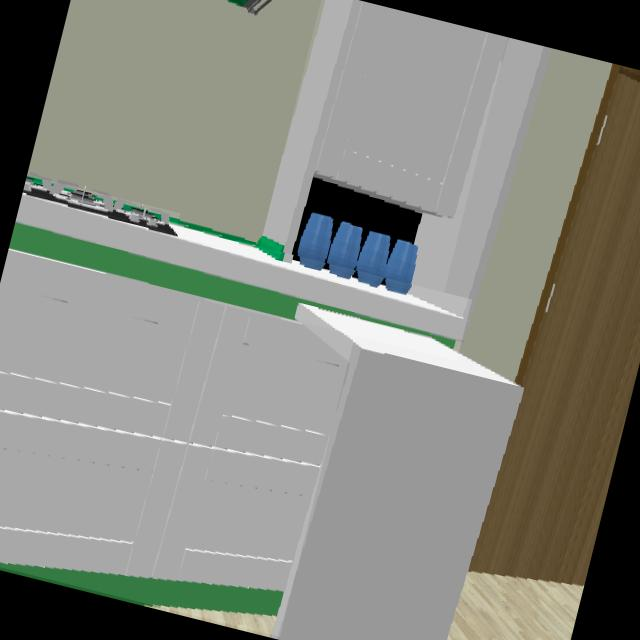cabinet: (0, 249, 347, 592), (264, 0, 505, 260)
countertop: (9, 194, 465, 348)
stove: (22, 176, 174, 234)
